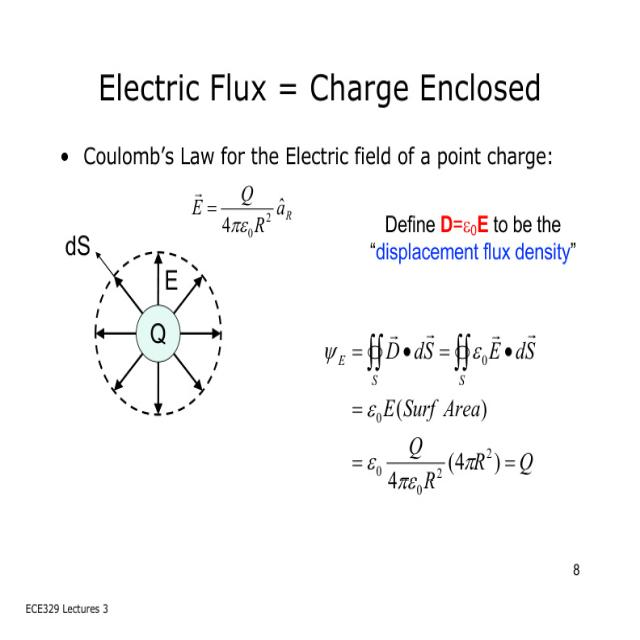equations: (313, 327, 547, 500), (95, 64, 548, 111), (188, 179, 298, 244), (438, 209, 492, 238)
